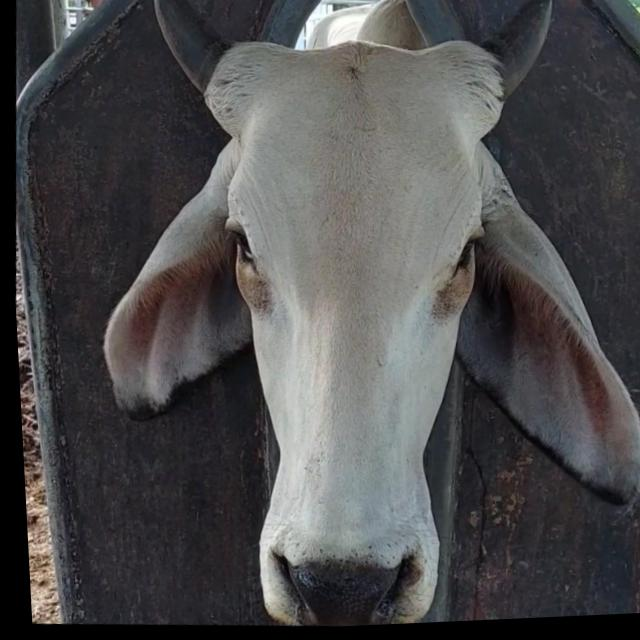cowFace: (198, 35, 501, 633)
